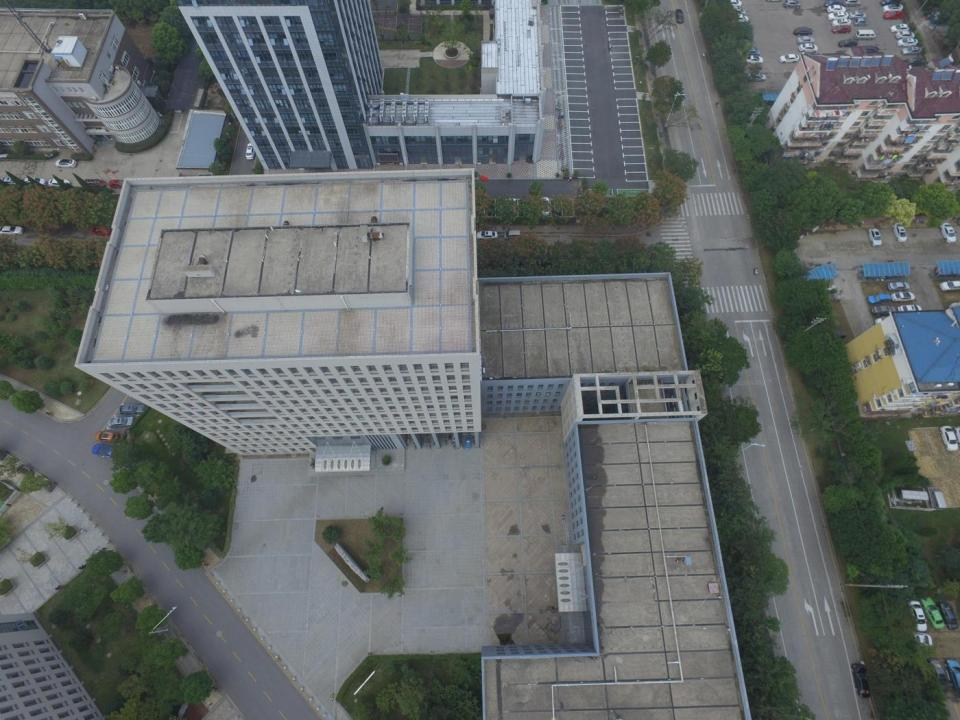car: (919, 596, 945, 630), (925, 657, 948, 692), (851, 660, 871, 698), (906, 600, 928, 633), (936, 601, 959, 630), (900, 632, 934, 648), (940, 425, 959, 452), (944, 659, 960, 691), (940, 222, 957, 244), (91, 444, 117, 458), (892, 221, 907, 243), (108, 416, 135, 428), (94, 431, 120, 443), (867, 228, 883, 247), (0, 224, 25, 236), (118, 404, 145, 415), (874, 315, 900, 326), (871, 305, 897, 316), (887, 281, 911, 292), (853, 29, 877, 40), (891, 292, 916, 302), (778, 53, 800, 64), (868, 294, 892, 304), (90, 225, 111, 236), (798, 43, 819, 54), (882, 10, 905, 20), (507, 258, 530, 268), (536, 258, 558, 268), (476, 230, 498, 240), (23, 177, 47, 186), (898, 304, 922, 313), (826, 12, 850, 21), (901, 45, 922, 55), (831, 24, 852, 34), (48, 178, 71, 187), (896, 30, 916, 40), (540, 196, 550, 216), (55, 159, 77, 168), (84, 178, 106, 187), (896, 38, 918, 47), (837, 38, 859, 47), (245, 142, 256, 160), (742, 47, 761, 57), (507, 197, 517, 216), (889, 23, 910, 32), (831, 18, 852, 27), (520, 196, 529, 217), (108, 179, 126, 189), (746, 55, 764, 65), (793, 27, 813, 36), (905, 57, 925, 66), (826, 4, 846, 13), (848, 10, 868, 19), (882, 3, 904, 11), (731, 14, 749, 23), (748, 73, 766, 82), (784, 0, 802, 9), (796, 36, 816, 44), (860, 45, 880, 53), (504, 230, 521, 239), (823, 0, 842, 8), (879, 0, 900, 7), (552, 199, 561, 215), (674, 9, 684, 23), (2, 177, 19, 185), (726, 0, 743, 8), (842, 0, 861, 7), (853, 18, 868, 26)
van: (930, 488, 948, 510), (730, 7, 747, 15)
